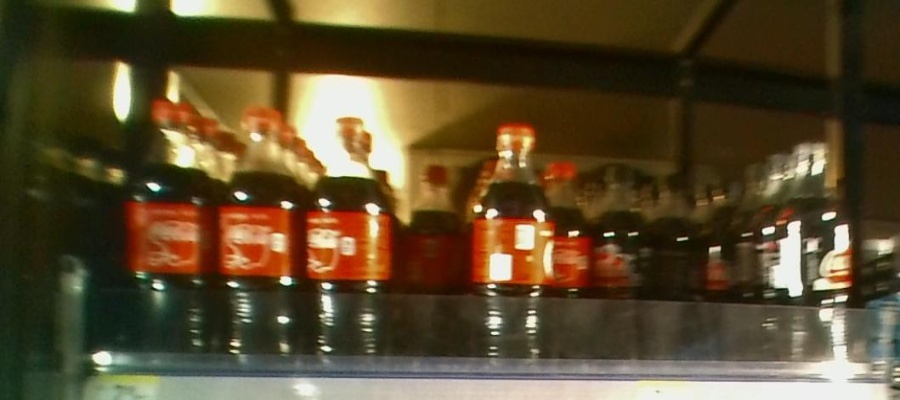bottle: (129, 90, 220, 361), (303, 110, 388, 369), (224, 96, 303, 366), (474, 119, 553, 364), (773, 141, 853, 357), (401, 154, 466, 358), (593, 155, 648, 361), (647, 154, 701, 362), (555, 155, 590, 363)
